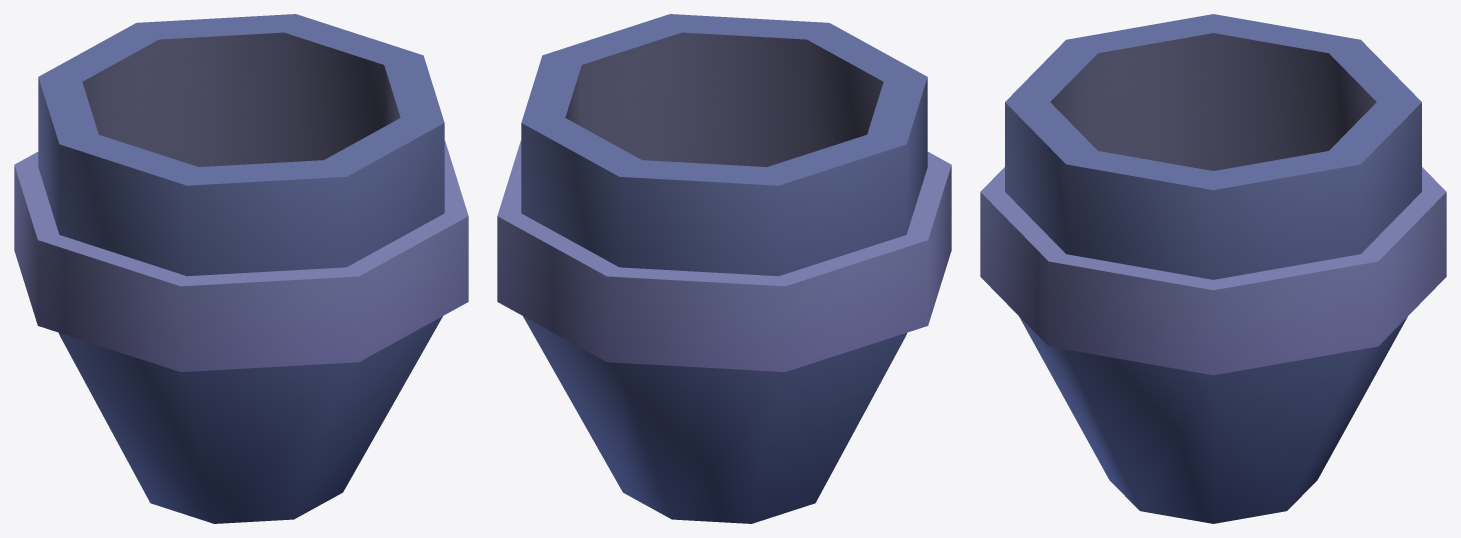
File: kenney-factory-hopper-round.glb
3 views of the same model, side by side, from view 1: azimuth 30°, elevation 25°; view 2: azimuth 150°, elevation 25°; view 3: azimuth 270°, elevation 25° (orthographic).
Visible parts, largest first — view 1: hopper-round; view 2: hopper-round; view 3: hopper-round.
Boxes of the visible parts, box(x1,y1,x2,y2) form: hopper-round: box(14, 14, 468, 523); hopper-round: box(497, 14, 951, 523); hopper-round: box(980, 14, 1446, 523).
Size of the model in its own units: 1.68 by 1.5 by 1.68.
1 material, 1 textured.
